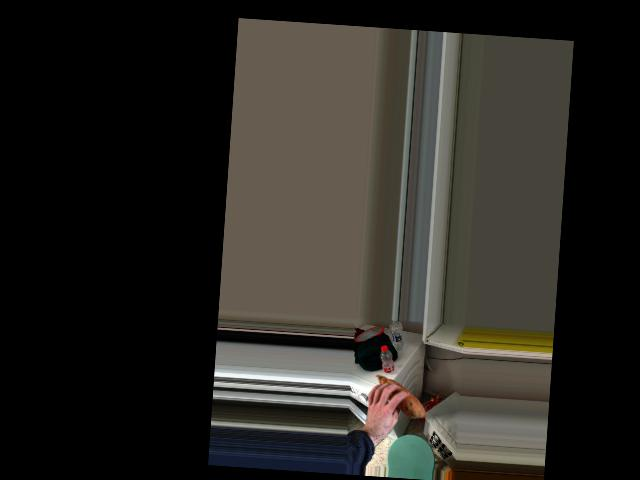sweet_potato: (369, 376, 424, 417)
